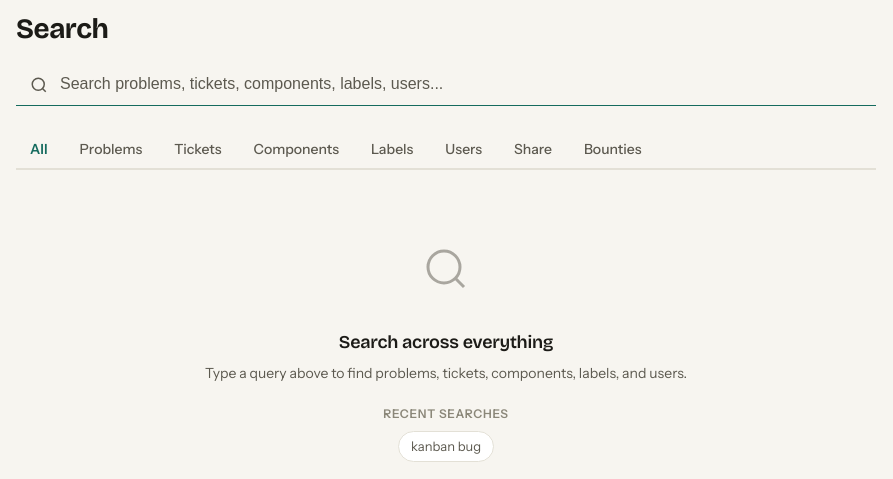
Test: Search (v2.29-S6, audit P2#17) — recent-search chips › clicking a chip runs that search
The image size is (893, 479).
Click the button "kanban bug".
click(446, 447)  # box [398, 431, 494, 462]
Wait 350 ms
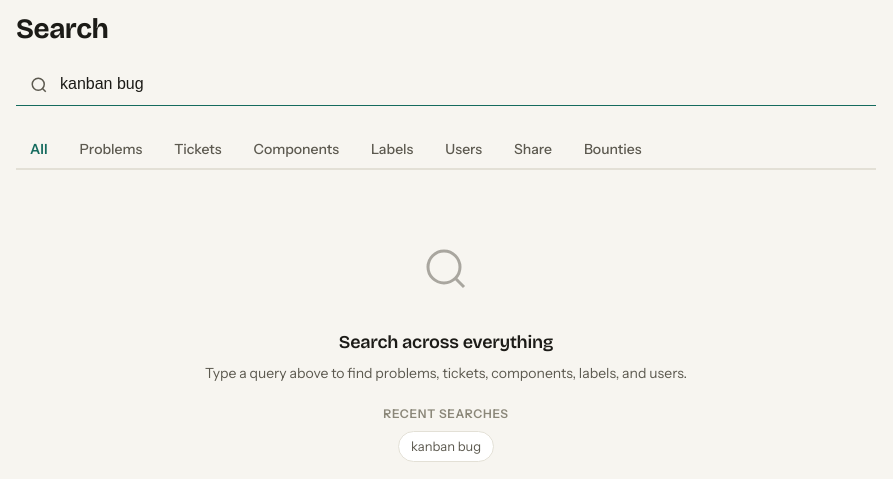
Result: the field holds "kanban bug" at [16, 63, 876, 106]
